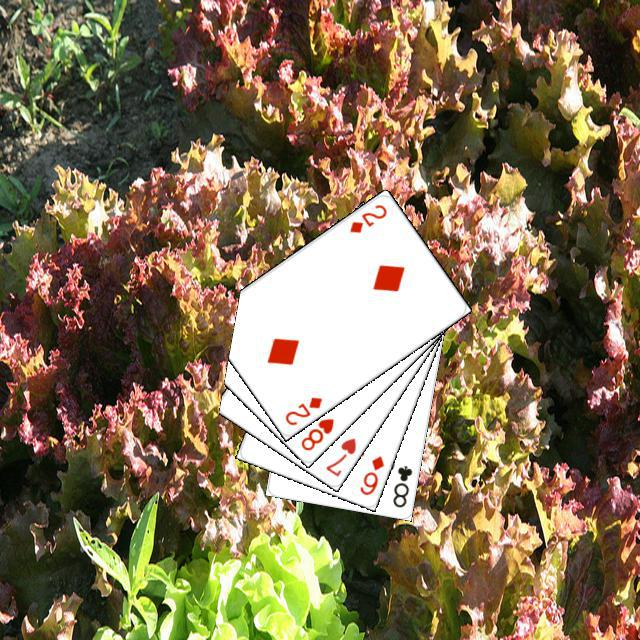2d: (345, 199, 389, 235), (280, 392, 324, 427)
6d: (355, 451, 386, 497)
7h: (320, 433, 358, 478)
8c: (388, 460, 414, 509)
8h: (296, 413, 335, 452)
